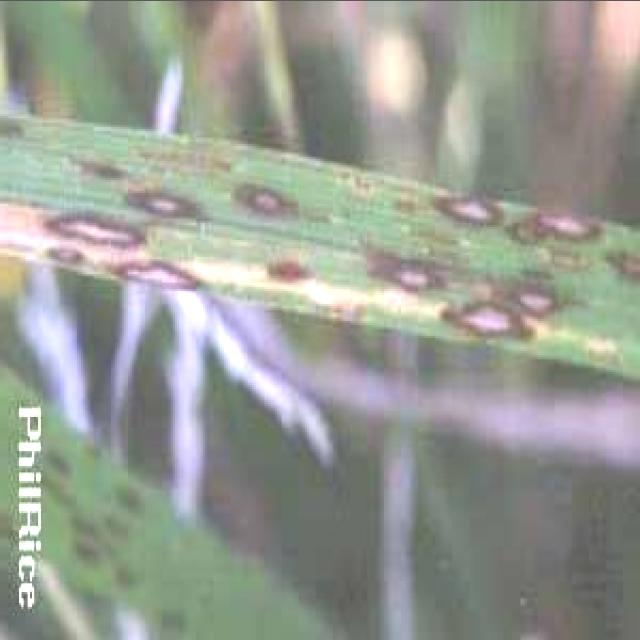Brown_Spot: (364, 250, 572, 342)
